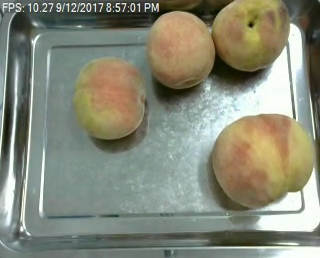Peach: (211, 112, 314, 207), (72, 57, 146, 142), (212, 0, 290, 72), (145, 9, 215, 89)
